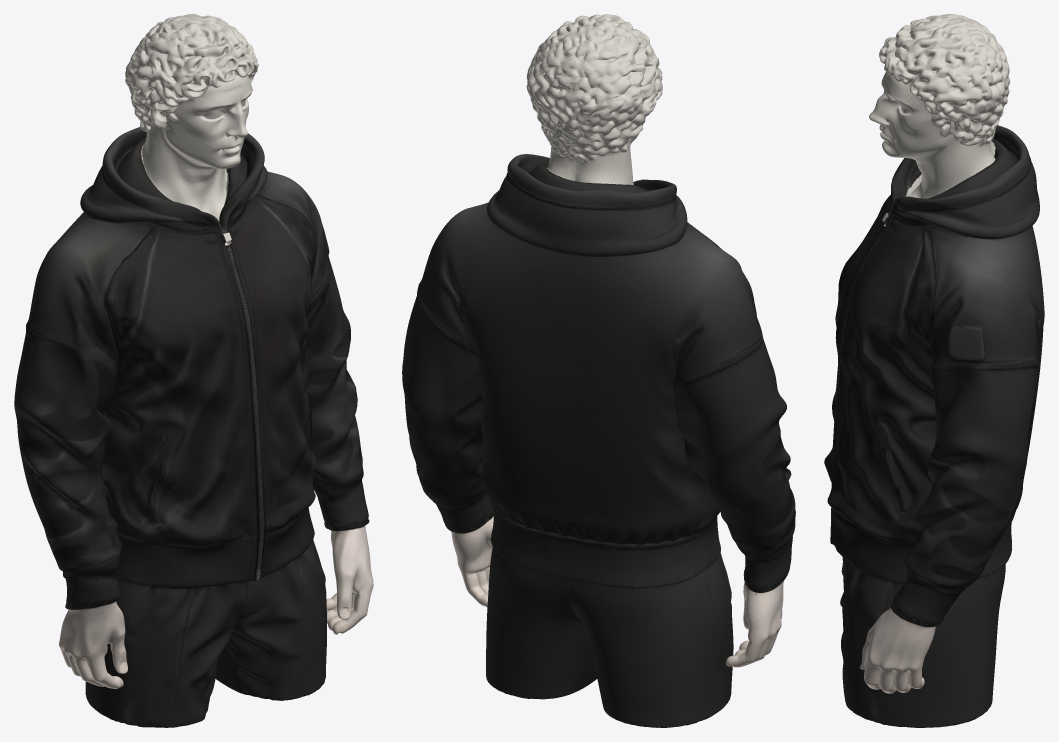
Rendered from hoodie-sculpture-textile.glb.
3 views of the same model, side by side, from view 1: azimuth 30°, elevation 25°; view 2: azimuth 150°, elevation 25°; view 3: azimuth 270°, elevation 25° (orthographic). The views are drawn at different scales.
Visible parts, largest first — view 1: model; view 2: model; view 3: model.
Part boxes in pixels (bbox=[...]): model: bbox=[14, 14, 373, 727]; model: bbox=[402, 14, 795, 727]; model: bbox=[824, 14, 1044, 727].
Size of the model in its own units: 1.03 by 1.9 by 0.5779.
Materials: 2 (1 with a texture image).
